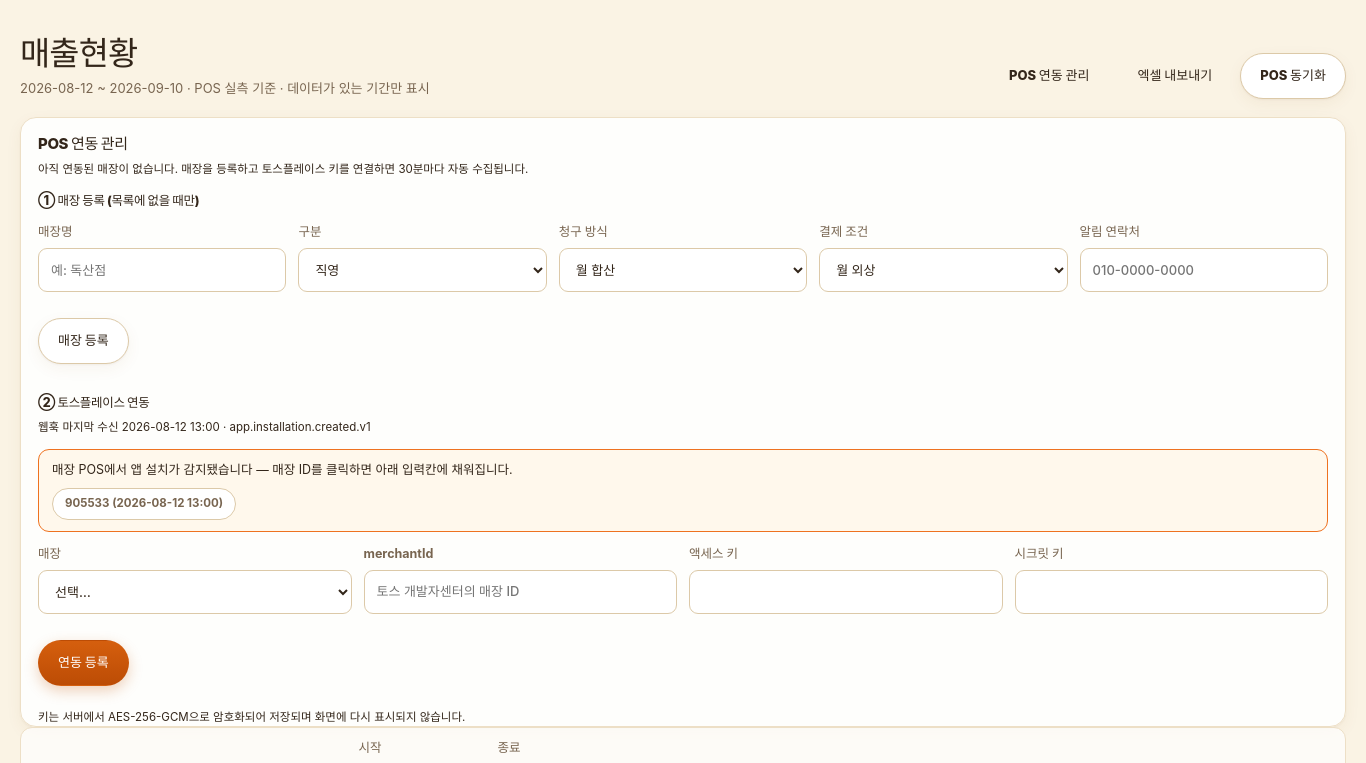
POS 현장 운영 화면 › POS 연동: 웹훅으로 자동 수집된 merchantId 칩을 클릭하면 입력칸에 채워진다
The width and height of the screenshot is (1366, 763).
Expected: the element with test id "discovered-merchants" is shown, [38,449,1328,532]
Expected: the element with test id "discovered-merchants" shows "앱 설치가 감지", [52,462,513,477]
Click the button "905533 (2026-08-12 13:00)" at (144,504), box [52,488,236,520]
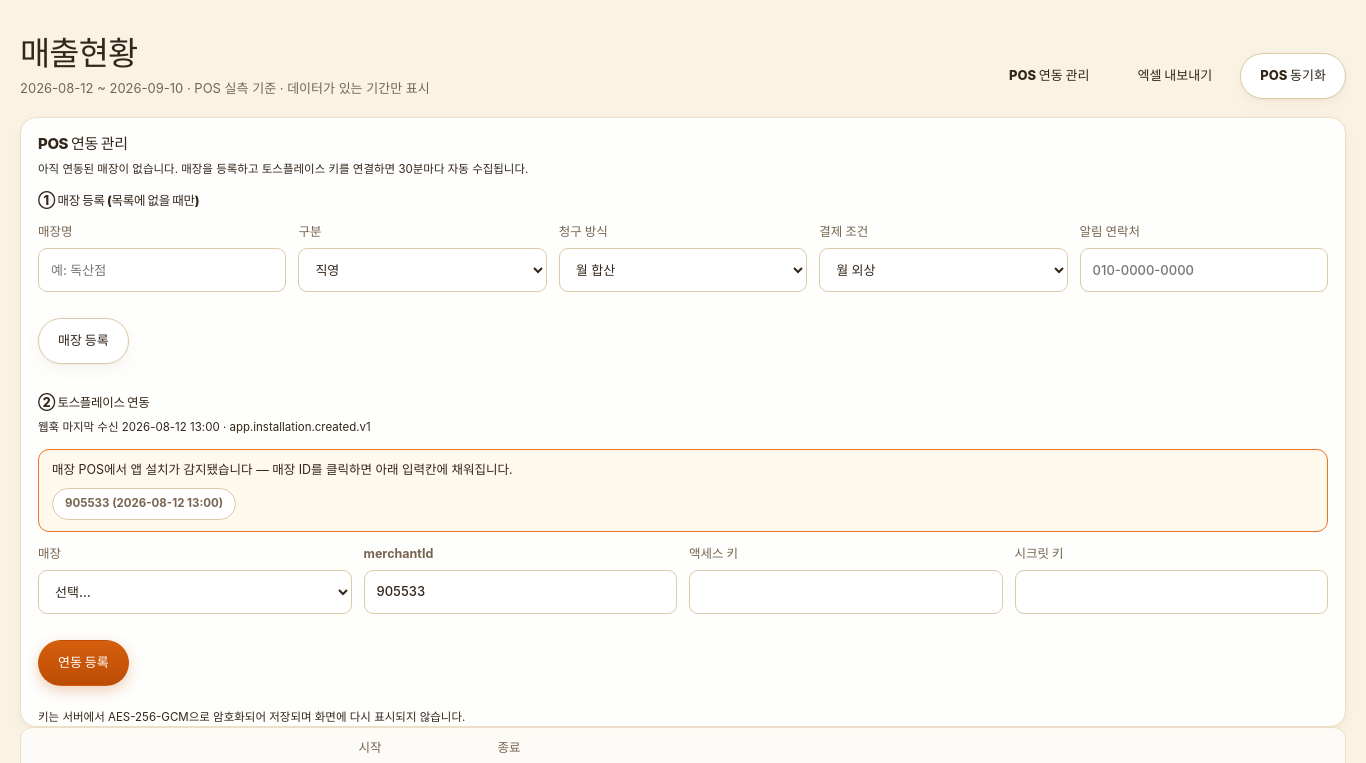
Expected: the text with test id "webhook-heartbeat" shows "웹훅 마지막 수신 2026-08-12 13:00", [38,420,371,434]
Now the field labelled "merchantId" holds "905533", box [364,570,677,614]
